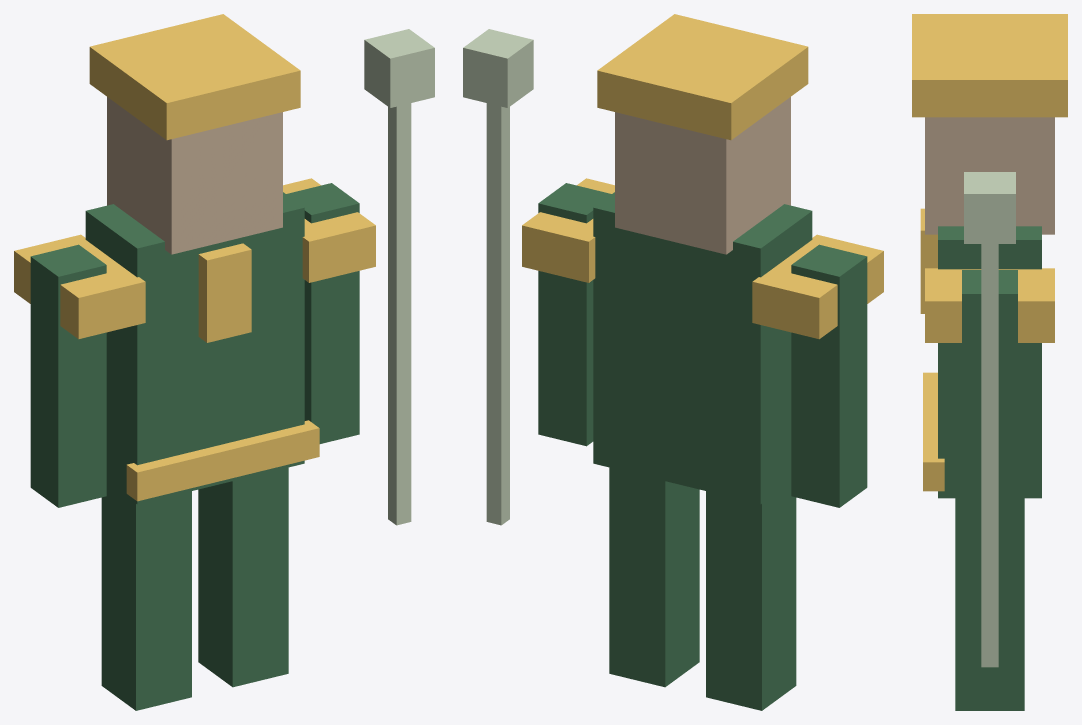
The model's file is 07_sable_trenchmark_captain_from_vine.glb.
The picture shows the model from 3 angles, left to right: view 1: azimuth 30°, elevation 25°; view 2: azimuth 150°, elevation 25°; view 3: azimuth 270°, elevation 25°; orthographic projection.
Visible parts, largest first — view 1: Sable Trenchmark, Captain from Vine; view 2: Sable Trenchmark, Captain from Vine; view 3: Sable Trenchmark, Captain from Vine.
Boxes of the visible parts, x1,y1,x2,y2 form: Sable Trenchmark, Captain from Vine: [14, 14, 434, 710]; Sable Trenchmark, Captain from Vine: [463, 14, 883, 710]; Sable Trenchmark, Captain from Vine: [912, 14, 1067, 710].
Size of the model in its own units: 1.04 by 1.64 by 0.3704.
